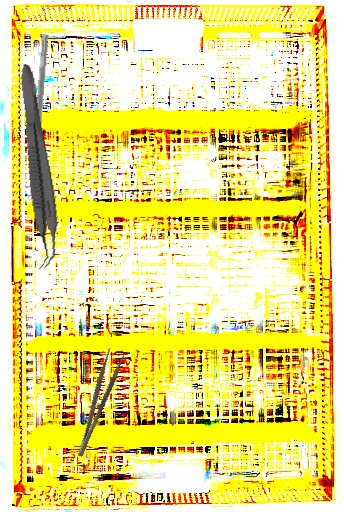Dressing Forceps: (66, 347, 127, 459)
Spatula Surgical: (23, 33, 49, 199)
Tissue Forceps: (6, 62, 67, 272)
